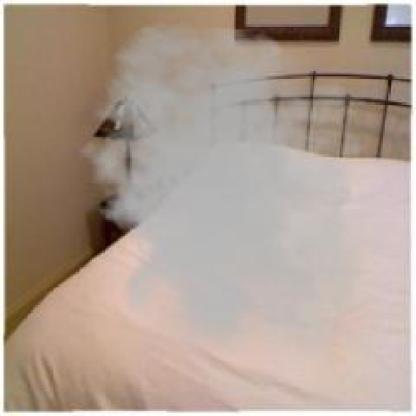Smoke: (68, 20, 405, 373)
